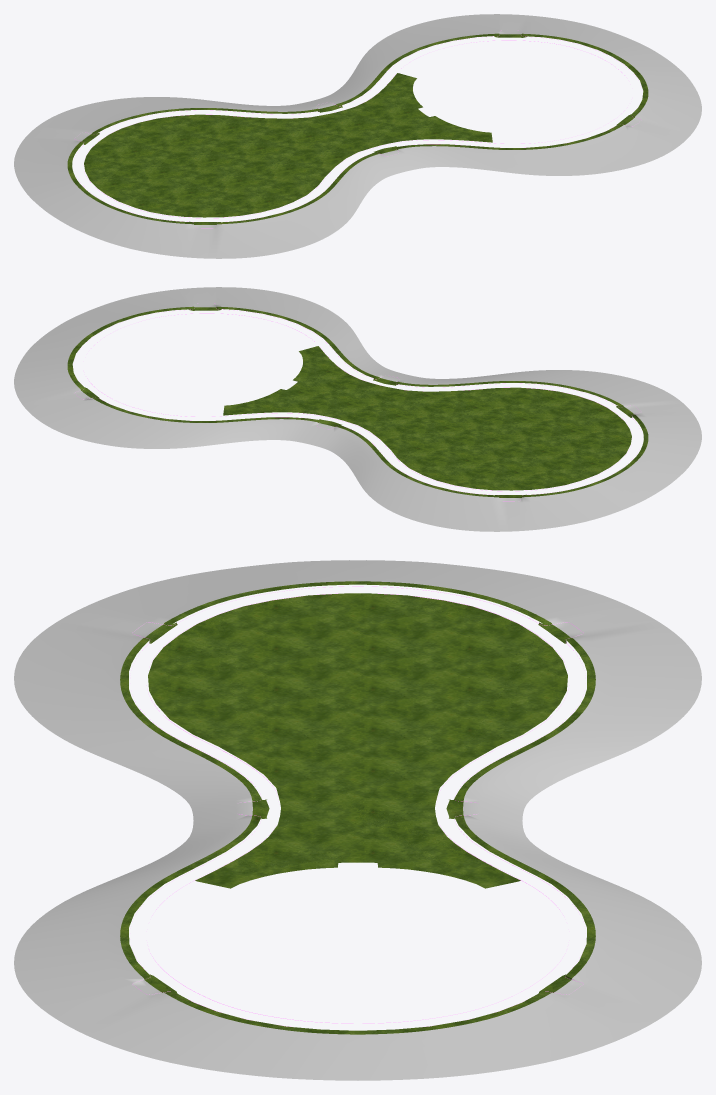
The model's file is Fix (1).fbx.
3 renders of one model, top to bottom at view 1: azimuth 30°, elevation 25°; view 2: azimuth 150°, elevation 25°; view 3: azimuth 270°, elevation 25°, orthographic. The views are drawn at different scales.
Parts seen in each view (by area): view 1: Plane; view 2: Plane; view 3: Plane, SM_SmallArea_.022.
Part boxes in pixels (<box>): Plane: <box>14,14,701,258</box>; Plane: <box>14,287,701,531</box>; Plane: <box>14,560,701,1080</box>; SM_SmallArea_.022: <box>146,593,569,1023</box>.
Bounding box in the file's own units: 62858 × 723 × 35104.
